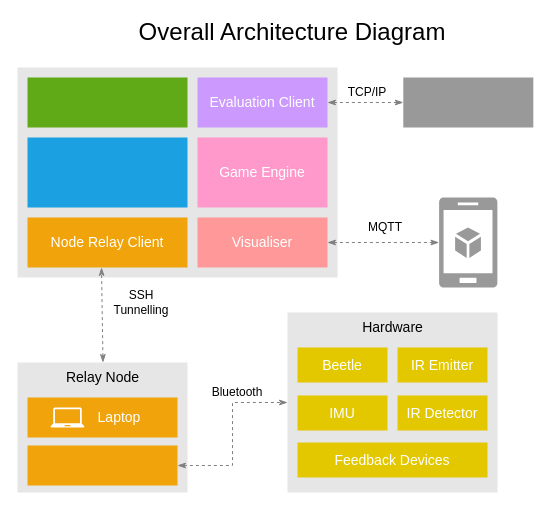
The diagram is 550 pixels wide and 509 high, and some of its shapes have lost their labels. Each missing label, with the centre of its shape:
AI Accelerator: [107,102]
Evaluation Server: [468,102]
Node Relay Server: [102,465]
Ultra 96: [107,172]
